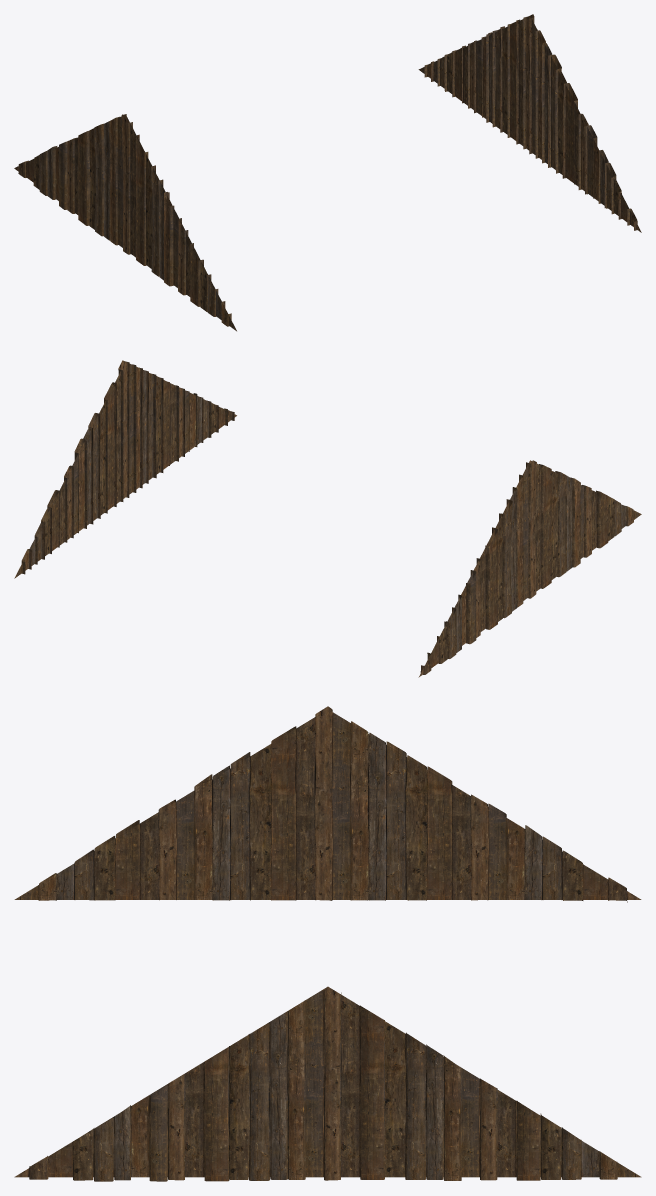
File: cabinUpperWalls_01_LOD1.FBX
3 renders of one model, top to bottom at view 1: azimuth 30°, elevation 25°; view 2: azimuth 150°, elevation 25°; view 3: azimuth 270°, elevation 25°, orthographic. The views are drawn at different scales.
Parts seen in each view (by area): view 1: cabinUpperWalls_01_LOD1; view 2: cabinUpperWalls_01_LOD1; view 3: cabinUpperWalls_01_LOD1.
Part boxes in pixels (x1,y1,x2,y2): cabinUpperWalls_01_LOD1: (14, 14, 641, 331); cabinUpperWalls_01_LOD1: (14, 360, 641, 677); cabinUpperWalls_01_LOD1: (14, 706, 641, 1181).
Size of the model in its own units: 42.88 by 13.71 by 40.25.
Materials: 1 (1 with a texture image).
